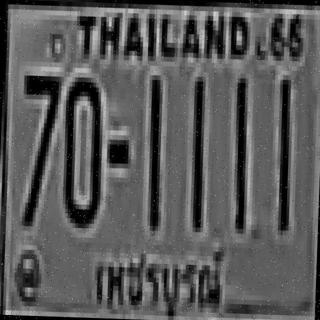N00: (63, 72, 106, 224)
N01: (147, 72, 166, 228), (276, 75, 295, 230), (232, 78, 251, 229), (190, 76, 208, 227)
N07: (19, 70, 62, 222)
P43: (82, 232, 230, 320)
